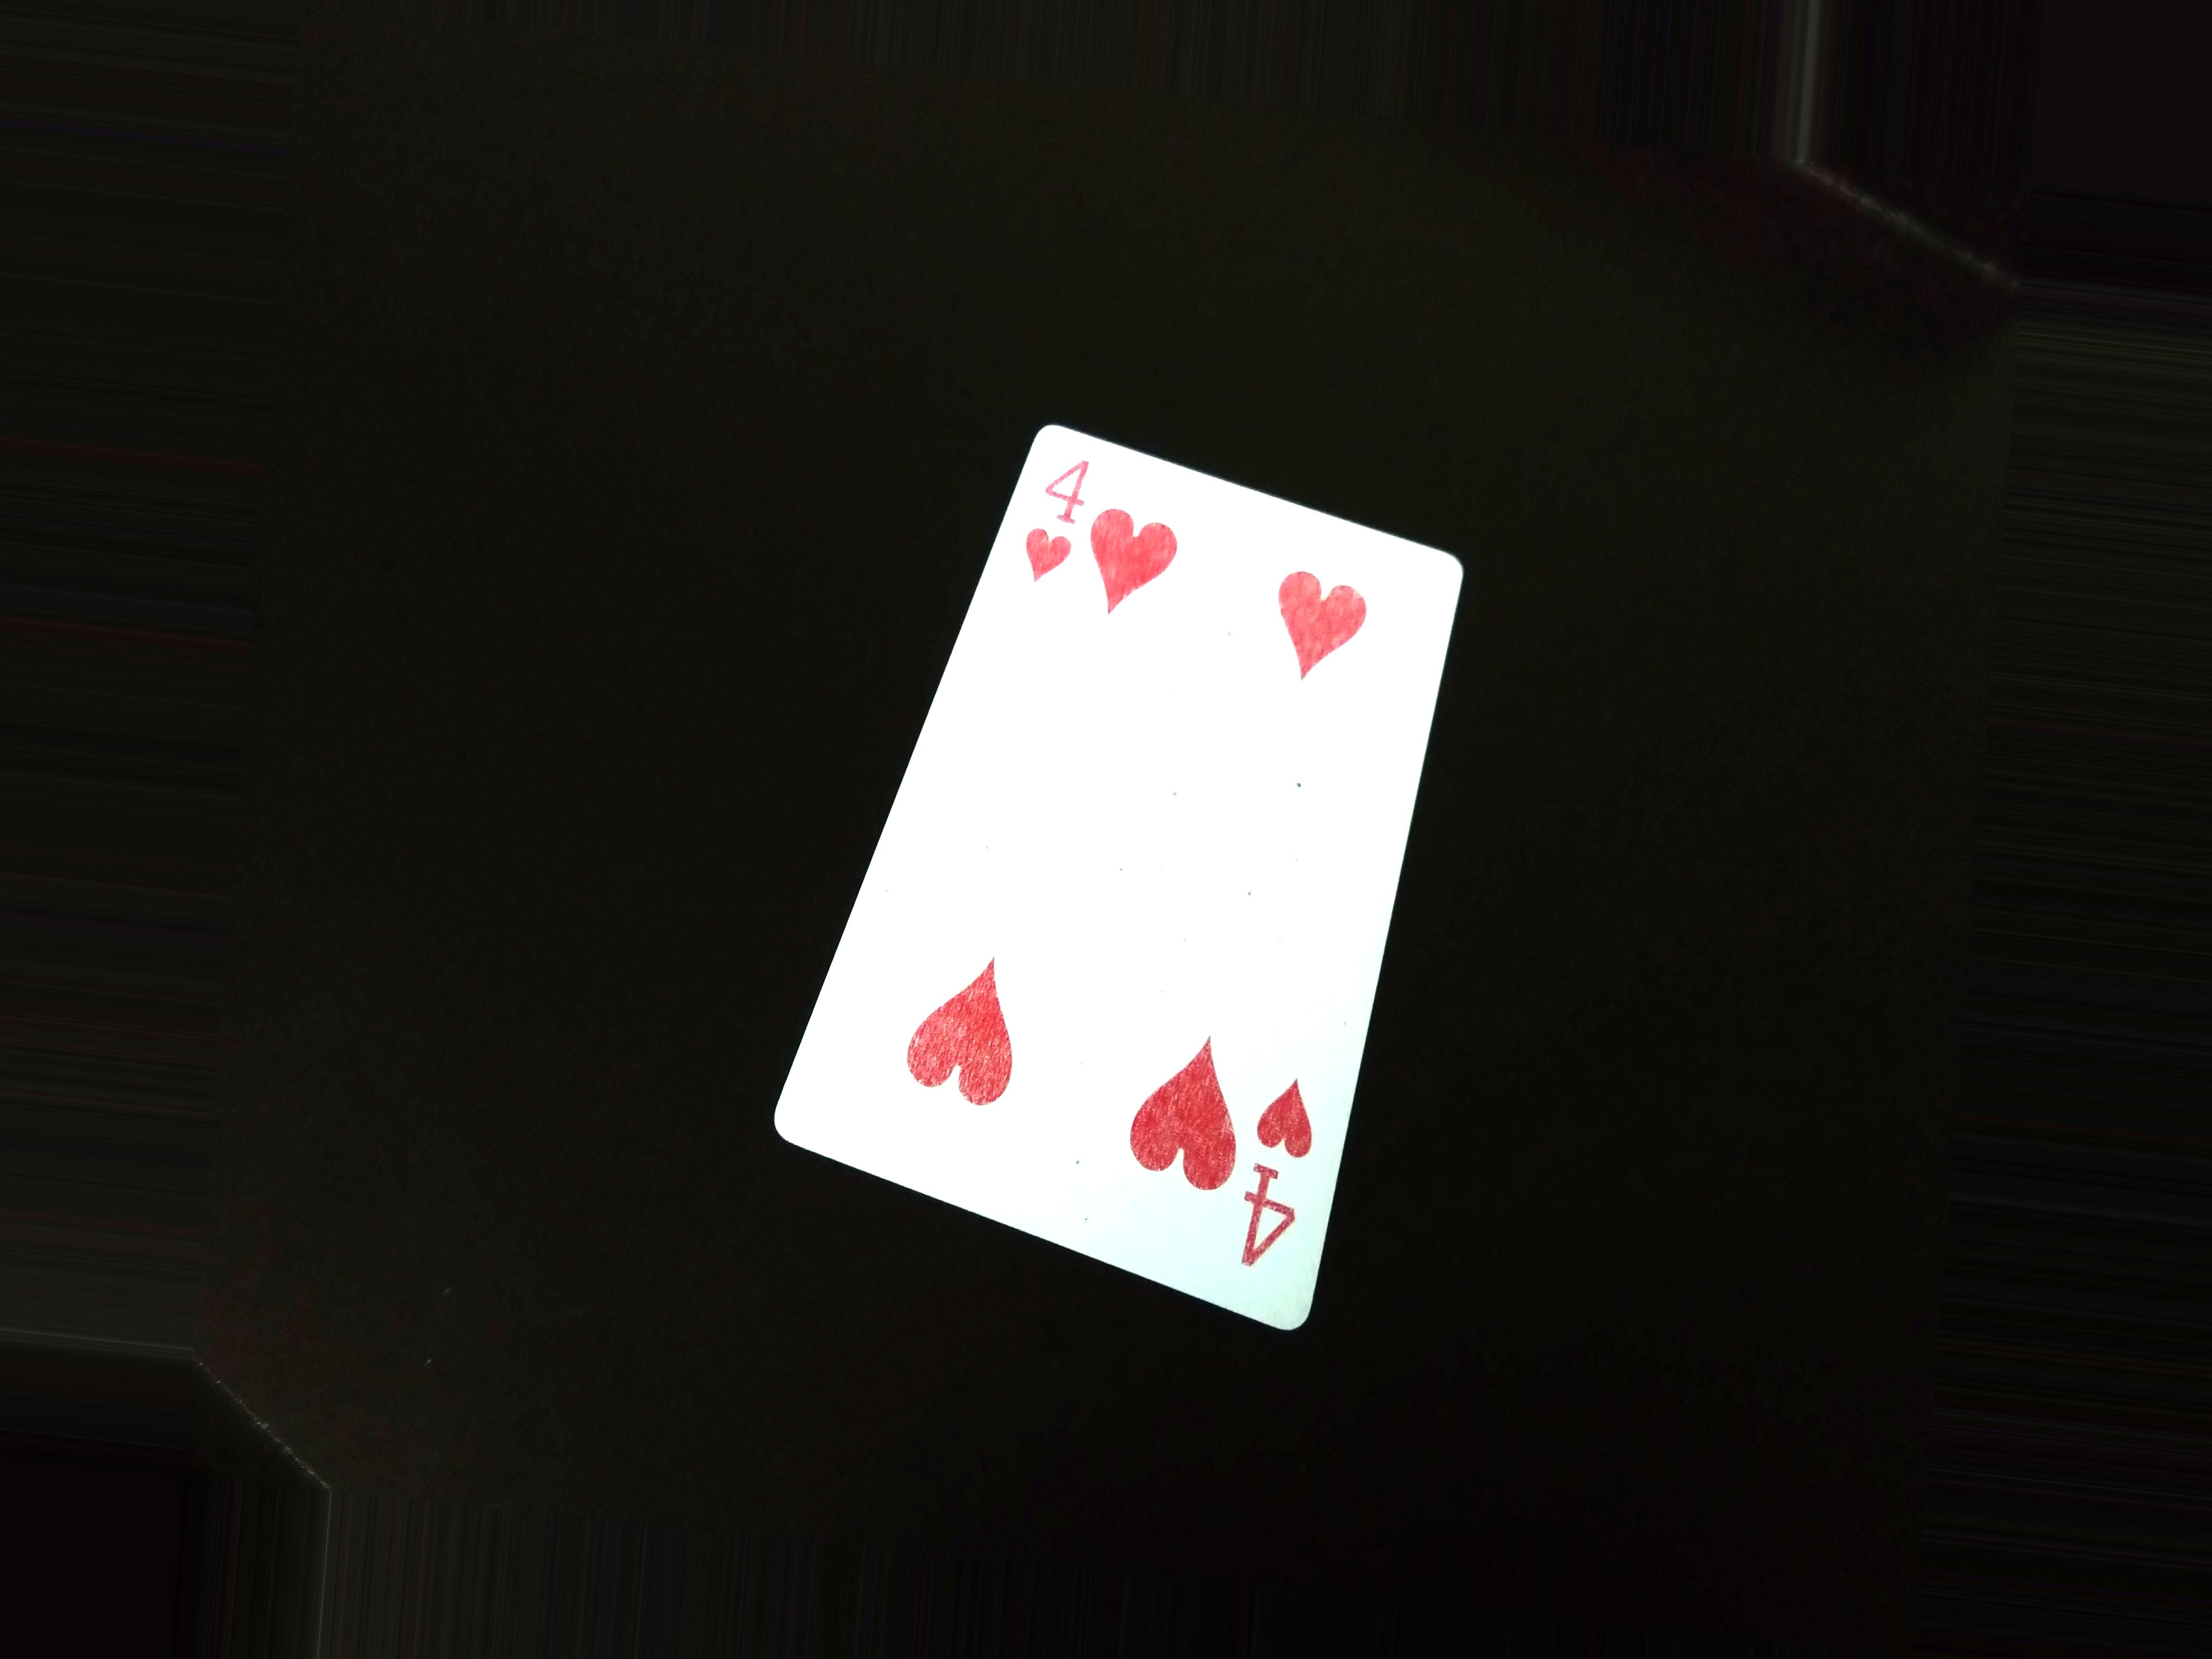4H: (1019, 446, 1097, 587)
